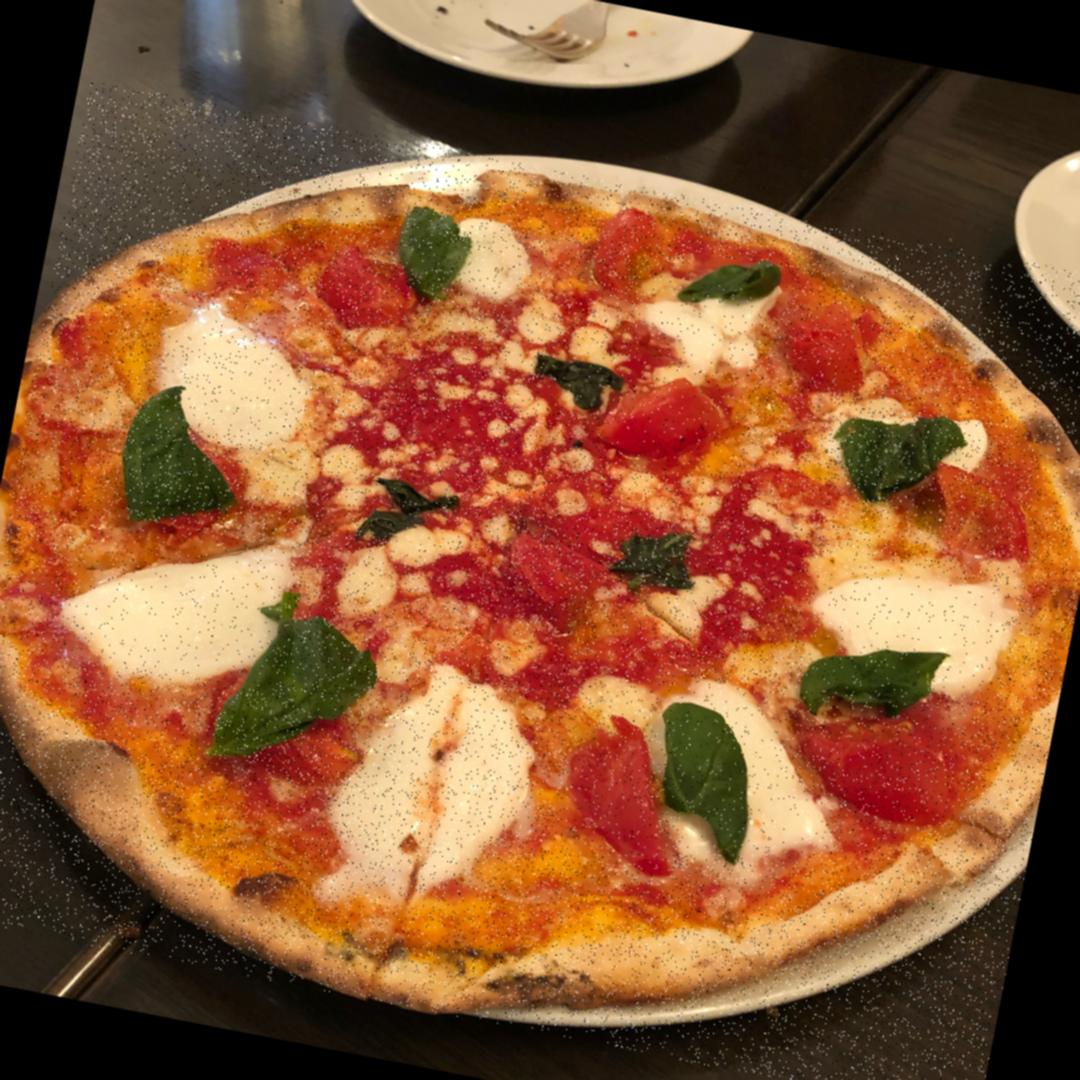Basil: (212, 598, 395, 783), (109, 371, 262, 546), (784, 606, 956, 748), (636, 701, 774, 855), (823, 402, 965, 512), (379, 201, 468, 304), (686, 252, 790, 318), (537, 349, 631, 418), (370, 476, 448, 546), (627, 533, 698, 599)
Cheese: (341, 664, 532, 934), (626, 673, 844, 872), (64, 512, 294, 694), (802, 548, 1016, 704), (150, 300, 315, 449), (630, 274, 762, 379), (446, 217, 548, 315)
Pepperoni: (791, 682, 971, 822), (550, 711, 695, 869), (598, 360, 745, 481), (700, 461, 826, 581), (480, 505, 606, 616), (918, 462, 1036, 572), (770, 290, 876, 388), (300, 249, 424, 332), (583, 200, 672, 305)
Pizza: (0, 80, 1080, 1080)
